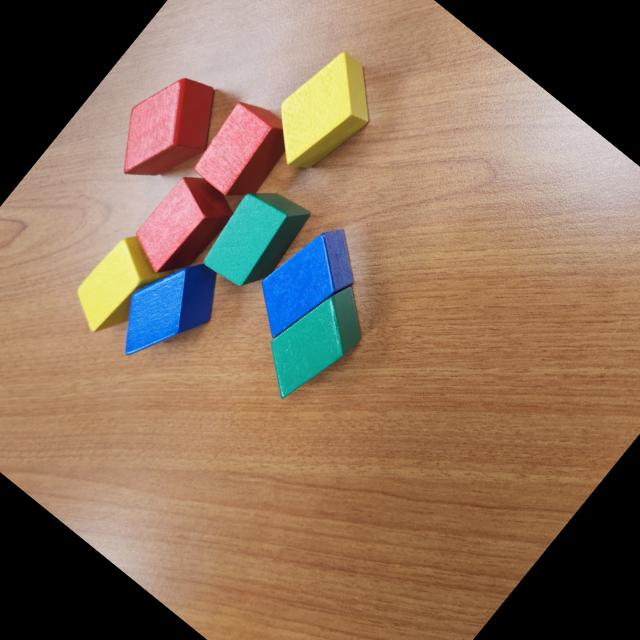blue: (238, 211, 376, 356), (100, 240, 236, 384)
green: (246, 268, 384, 414), (194, 172, 316, 300)
red: (96, 56, 240, 206), (185, 90, 302, 212), (124, 167, 240, 289)
yellow: (253, 39, 395, 189), (61, 228, 178, 350)
